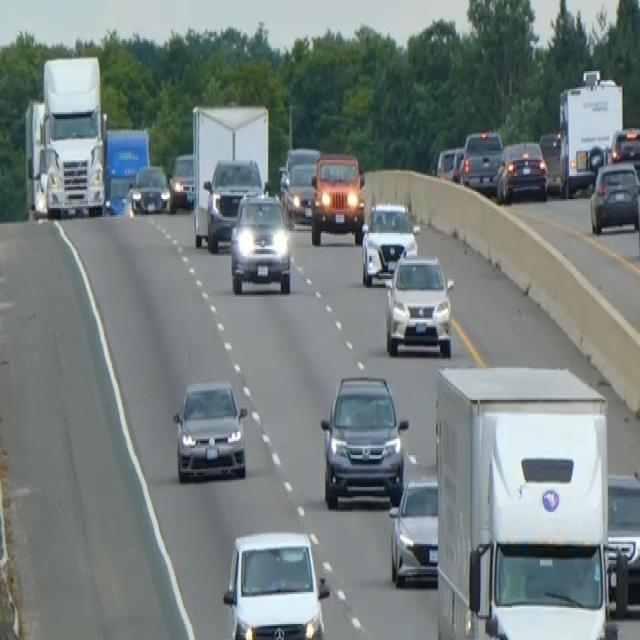car: (222, 528, 329, 638), (172, 377, 248, 483), (383, 251, 454, 357), (202, 154, 263, 250), (387, 474, 439, 586), (309, 150, 365, 246), (360, 199, 418, 286), (605, 470, 639, 604), (589, 158, 639, 235), (496, 137, 549, 203), (460, 128, 503, 192), (283, 158, 318, 224), (278, 144, 320, 196), (129, 162, 169, 213), (167, 151, 194, 210), (608, 125, 639, 164), (435, 144, 463, 181)
jeep: (319, 372, 409, 508)
lorry: (433, 361, 626, 638), (23, 52, 109, 220)
minivan: (228, 188, 293, 297)
